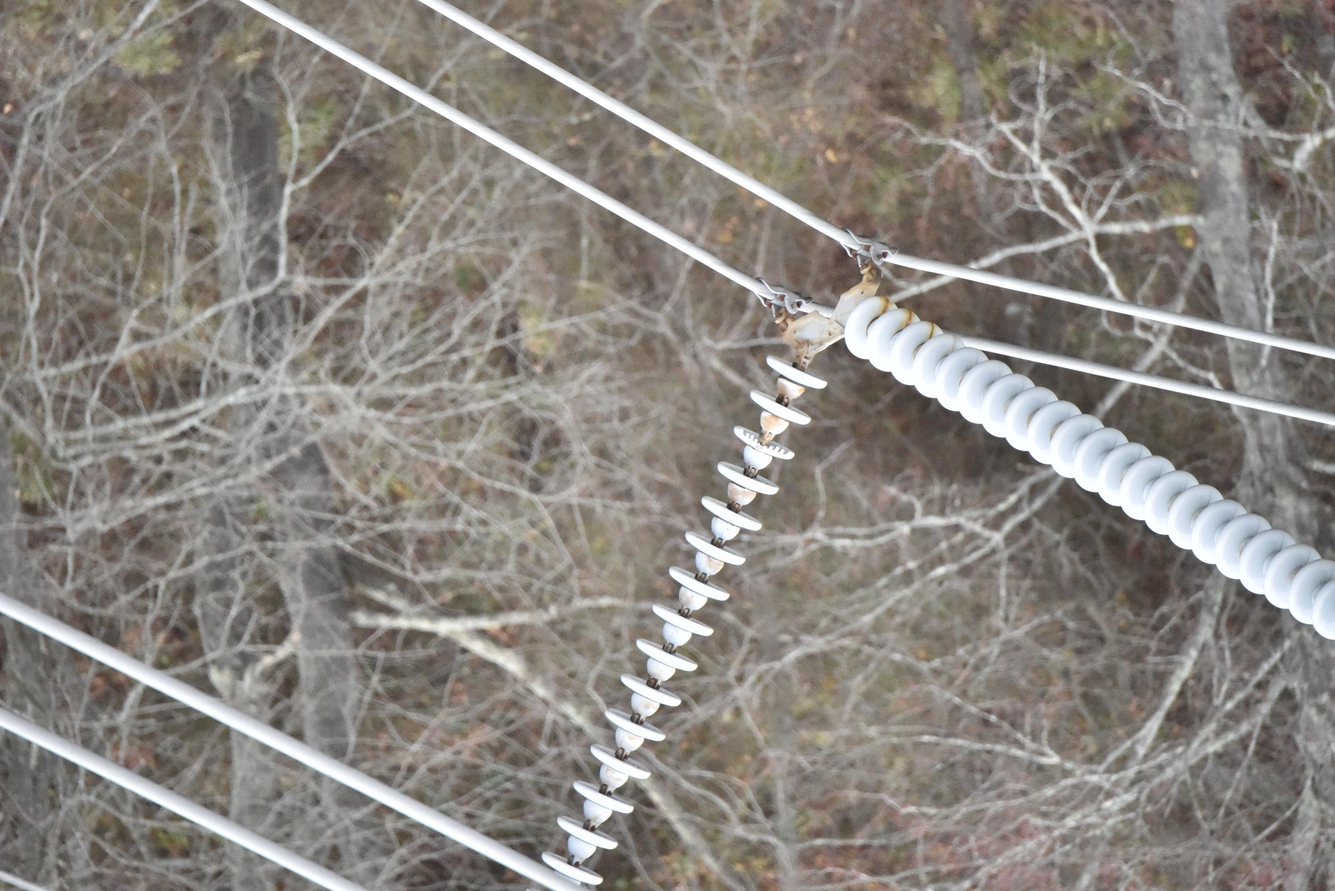damaged: (734, 423, 792, 463)
insulator: (842, 295, 1335, 639), (539, 353, 825, 891)
